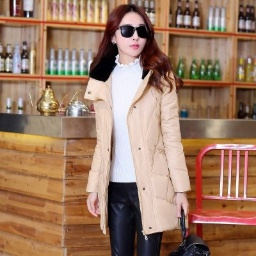face: (92, 4, 172, 72)
